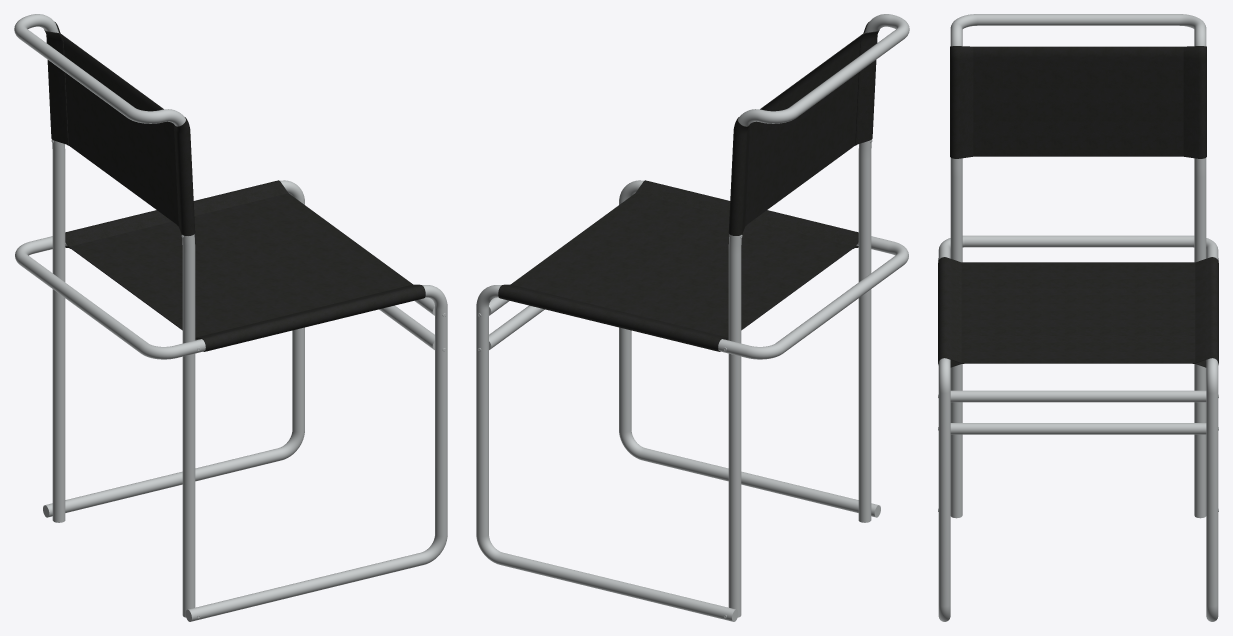
The model's file is TECTA_B004_jpeg-transformed.glb.
The picture shows the model from 3 angles, left to right: view 1: azimuth 30°, elevation 25°; view 2: azimuth 150°, elevation 25°; view 3: azimuth 270°, elevation 25°; orthographic projection. The views are drawn at different scales.
Visible parts, largest first — view 1: body_final_jpeg; view 2: body_final_jpeg; view 3: body_final_jpeg.
Boxes of the visible parts, left/top/right/bottom form: body_final_jpeg: left=14, top=14, right=447, bottom=621; body_final_jpeg: left=476, top=14, right=909, bottom=621; body_final_jpeg: left=938, top=14, right=1218, bottom=621.
Bounding box in the file's own units: 2.18 × 3.5 × 1.86.
2 materials, 2 textured.
